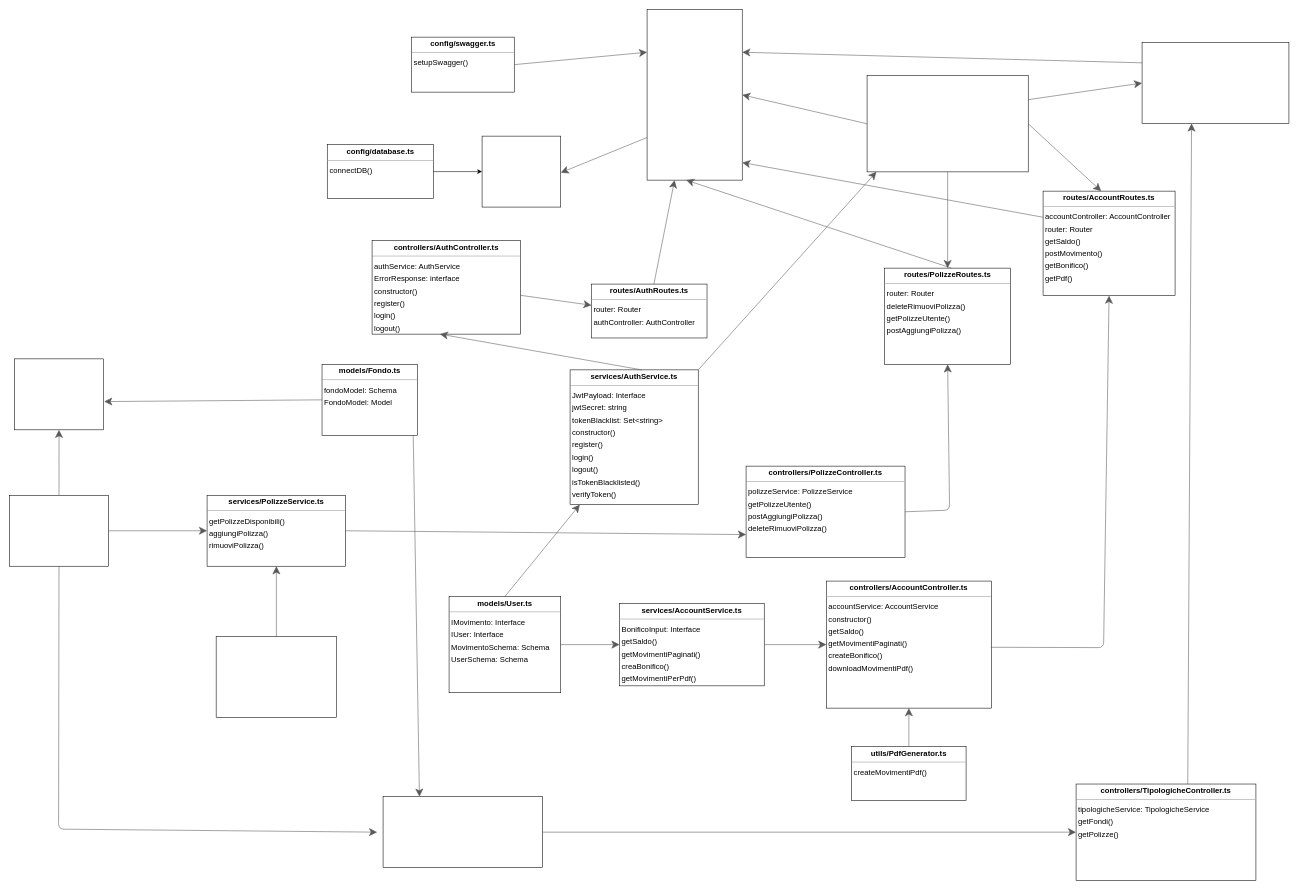
This 1299x890 diagram has some shape labels left out. Here are the shapes that lost their labels. From the top down, the box of each, then its label:
(647, 9, 742, 180): src/app.ts app: Application constructor() config() routes() errorHandler()
(1142, 42, 1289, 123): routes/TipologicheRoutes.ts router: Router getFondi() getPolizze()
(867, 75, 1028, 172): middleware/authMiddleware.ts authService: AuthService authMiddleware()
(482, 136, 561, 207): src/server.ts PORT: string app: Application connectDB()
(14, 358, 103, 430): src/seed.ts fondi: FondoModel[ ] polizze: PolizzaModel[ ] seed()
(9, 495, 109, 566): models/Polizza.ts polizzaSchema: Schema PolizzaModel: Model
(216, 636, 337, 717): models/UserPolizza.ts userPolizzaModel: Schema UserPolizzaModel: Model
(383, 796, 543, 868): services/TipologicheService.ts getFondi() getPolizze()
